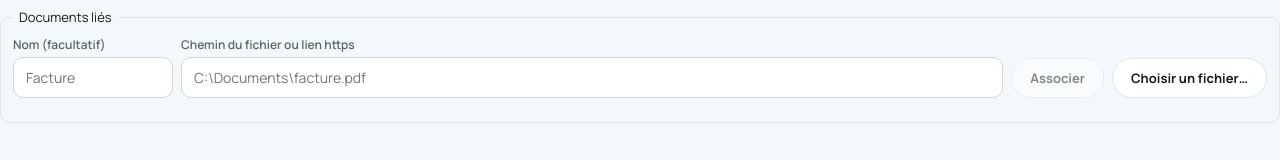
Test: champ « Documents liés » › dans l’édition bureau › un fichier choisi est refusé s’il n’est pas valide, et le dit
The image size is (1280, 160).
Step 1. Click the button "Choisir un fichier…" → (1190, 78), box 1112,58 -> 1267,98
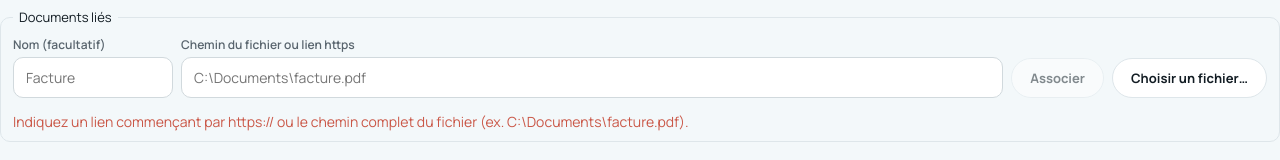
Now the message shows "chemin complet", box 13,112 -> 689,131
